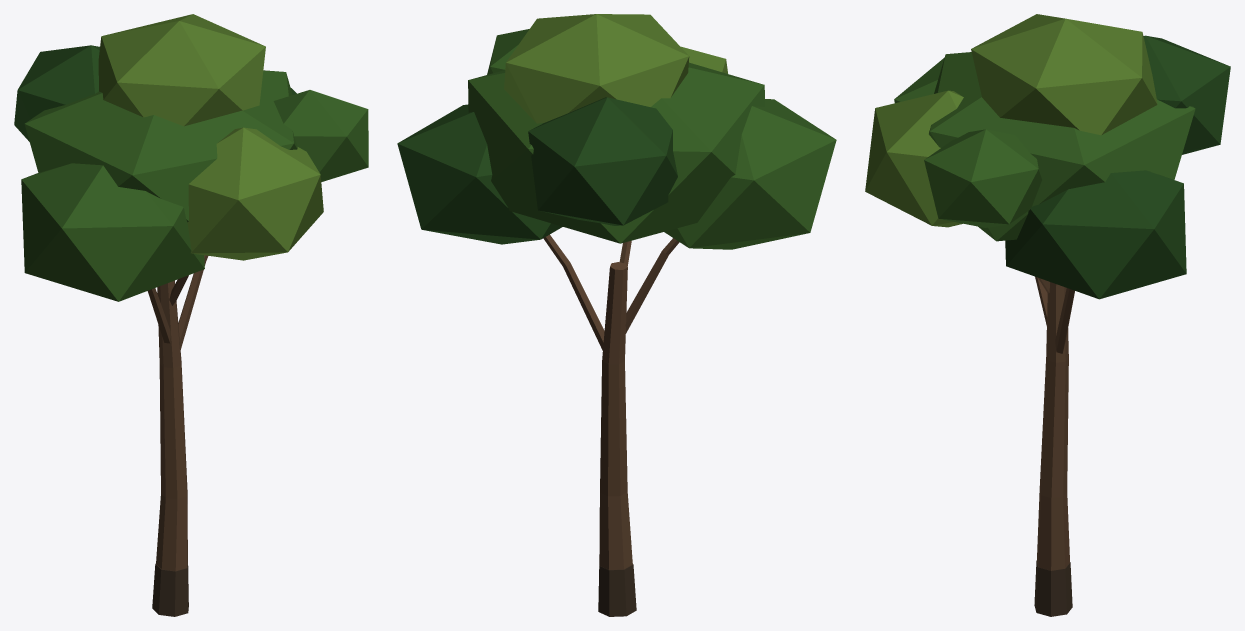
The model's file is arvore_mata_a.glb.
3 views of the same model, side by side, from view 1: azimuth 30°, elevation 25°; view 2: azimuth 150°, elevation 25°; view 3: azimuth 270°, elevation 25° (orthographic). The views are drawn at different scales.
Parts seen in each view (by area): view 1: arvore_mata_a; view 2: arvore_mata_a; view 3: arvore_mata_a.
Boxes of the visible parts, x1=… form: arvore_mata_a: x1=14, y1=14, x2=368, y2=616; arvore_mata_a: x1=397, y1=14, x2=836, y2=616; arvore_mata_a: x1=865, y1=14, x2=1230, y2=616.
Size of the model in its own units: 9.72 by 15.71 by 8.72.
